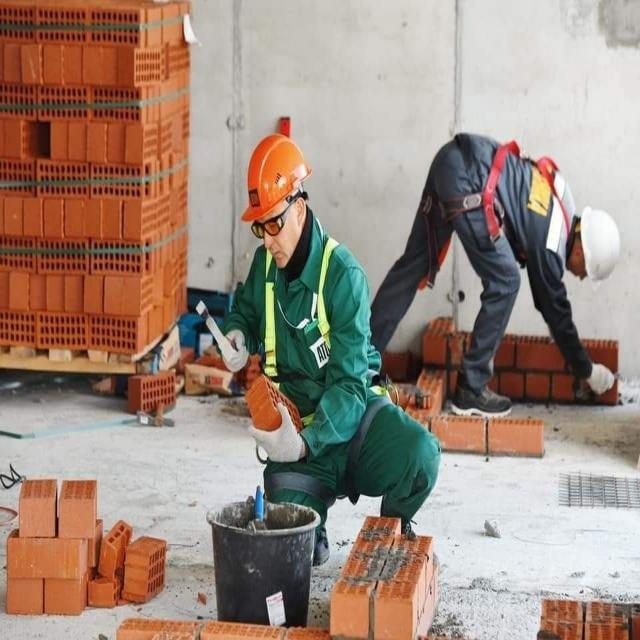Helmet: (241, 134, 313, 225), (580, 208, 622, 287)
NoJacket: (255, 238, 355, 442), (439, 153, 572, 270)
